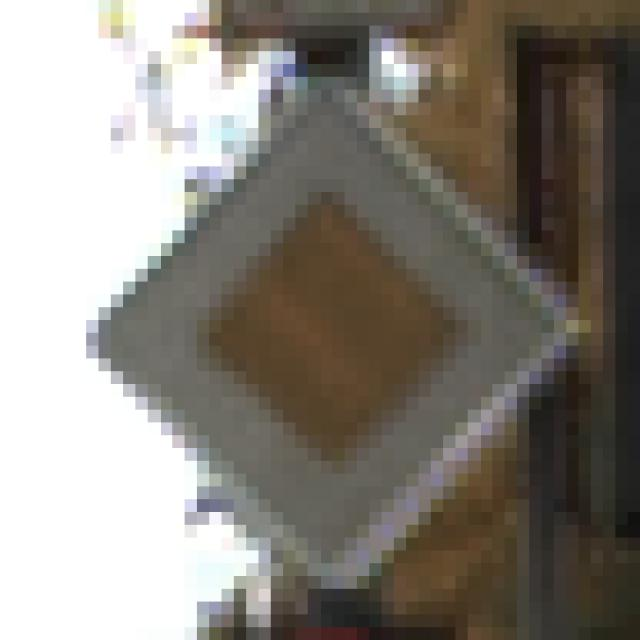Main Road: (75, 65, 567, 577)
